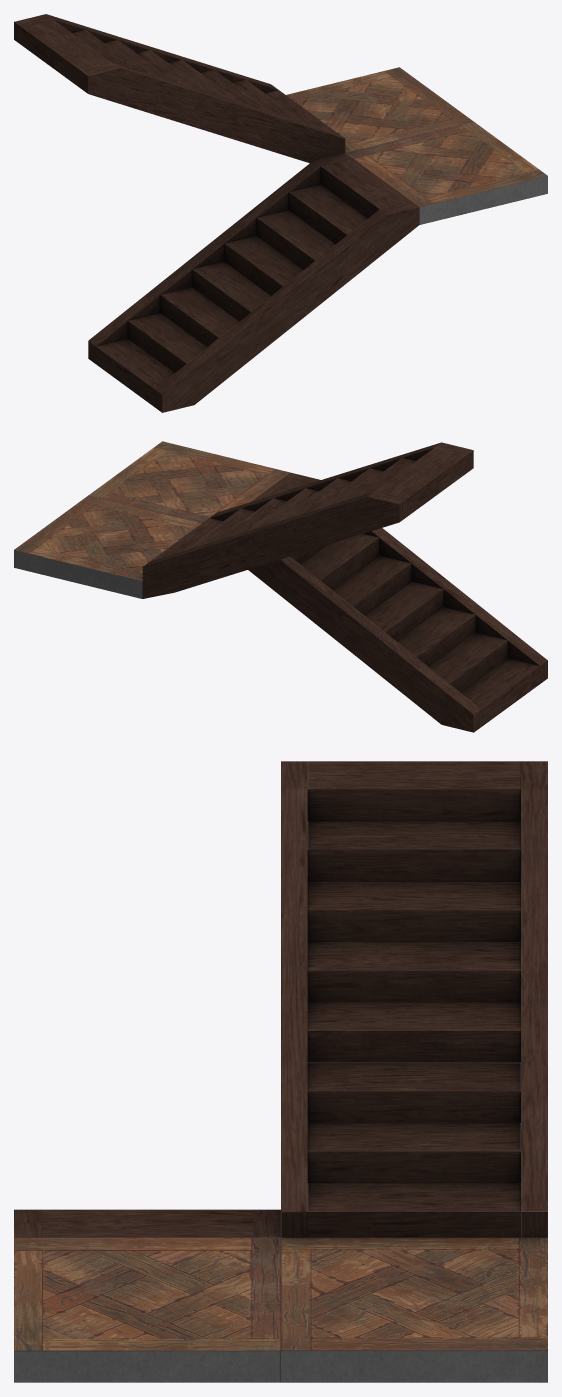
The model's file is SM_Ladder1.fbx.
The picture shows the model from 3 angles, top to bottom: view 1: azimuth 30°, elevation 25°; view 2: azimuth 150°, elevation 25°; view 3: azimuth 270°, elevation 25°; orthographic projection. The views are drawn at different scales.
Visible parts, largest first — view 1: Ladder1; view 2: Ladder1; view 3: Ladder1.
Boxes of the visible parts, x1,y1,x2,y2 form: Ladder1: [14, 14, 547, 412]; Ladder1: [14, 441, 547, 732]; Ladder1: [14, 761, 547, 1382].
Bounding box in the file's own units: 600 × 420 × 400.
